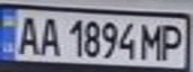1: (63, 16, 84, 57)
4: (118, 19, 139, 60)
8: (81, 17, 103, 59)
9: (100, 18, 121, 60)
A: (12, 12, 42, 56), (36, 14, 60, 56)
M: (139, 20, 166, 61)
P: (157, 21, 190, 61)
